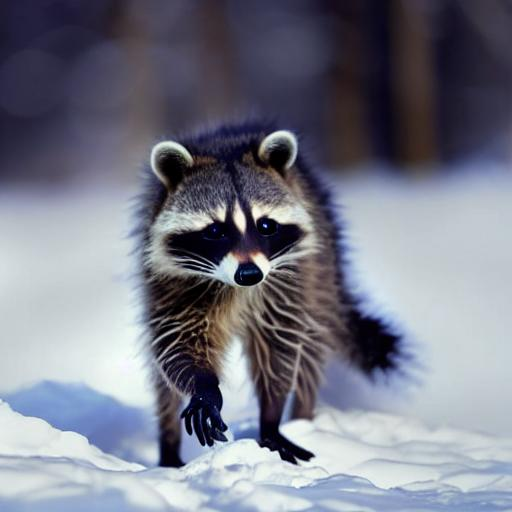raccoon: (117, 109, 424, 393)
